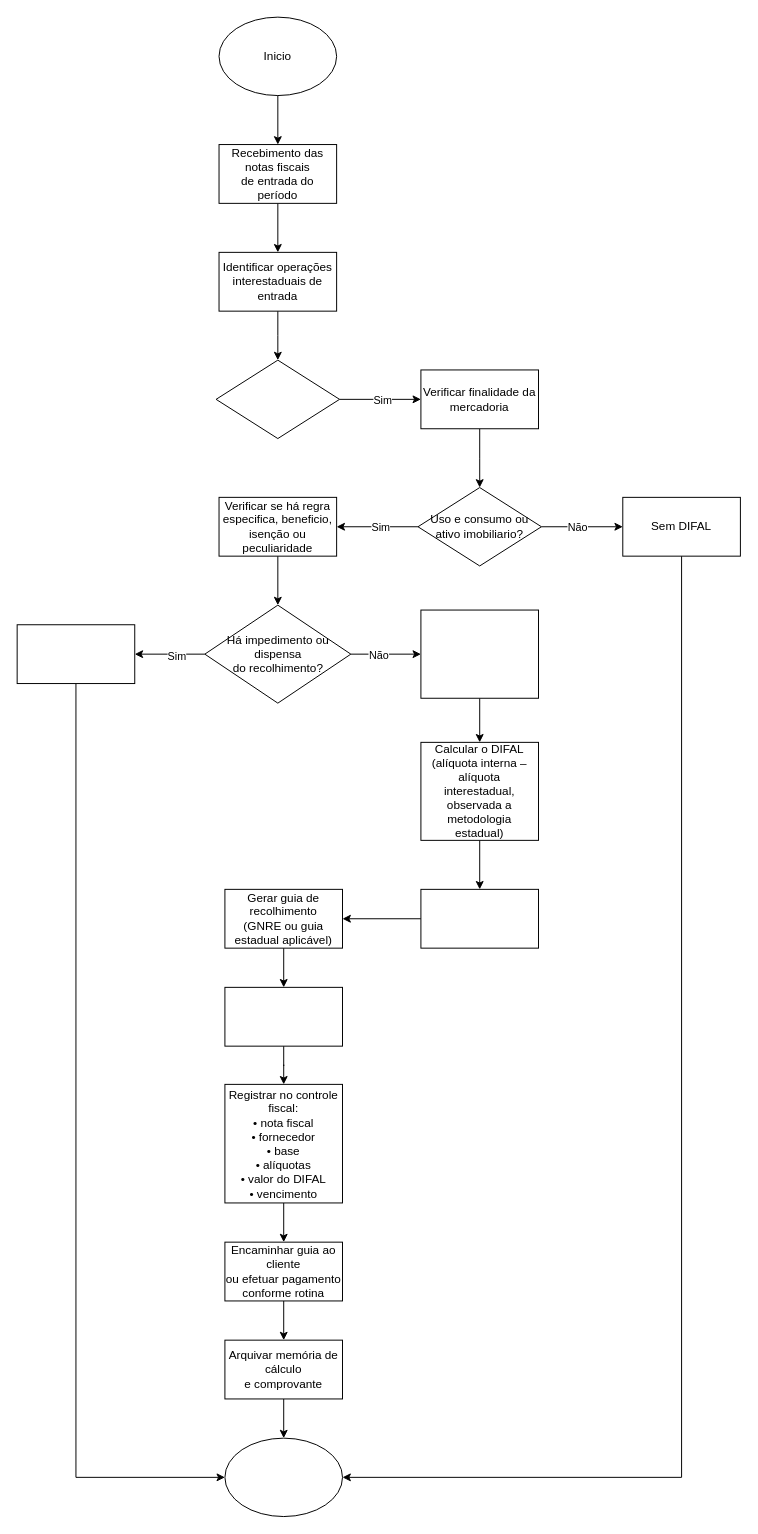
Some shapes in this 758 by 1534 pixel diagram are drawn without their labels. Each missing label, with the box of its shape:
Apurar valor devido na competência da entrada: (420, 888, 539, 948)
Conferir vencimento conforme regra da SEFAZ: (224, 986, 343, 1046)
Fim: (224, 1437, 343, 1517)
Identificar: • alíquota interna do RS • alíquota interestadual • base de cálculo: (420, 609, 539, 698)
Operação é interestadual?: (215, 359, 340, 439)
Registrar fundamento e encerrar: (16, 624, 135, 684)
